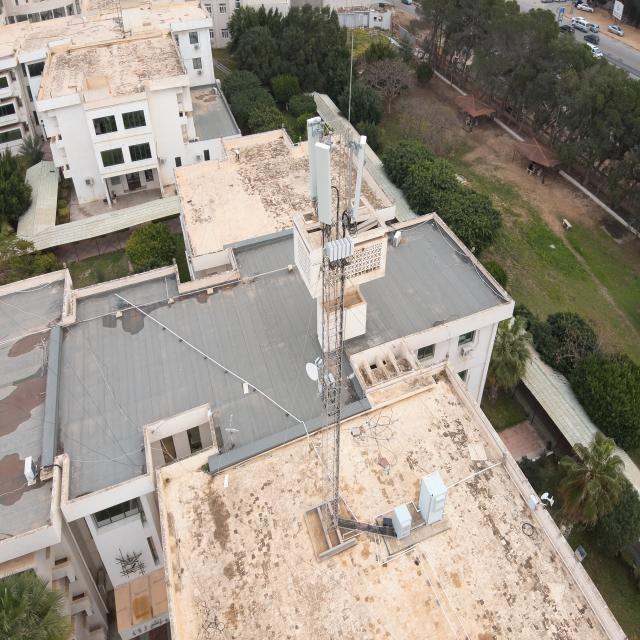antenna: (306, 116, 331, 202), (313, 140, 334, 230), (352, 136, 370, 221)
lighnig-rad: (348, 31, 358, 127)
microware-dish: (304, 354, 325, 383)
power-box: (318, 373, 338, 397)
radio-unit: (324, 236, 357, 264), (90, 300, 90, 308)
